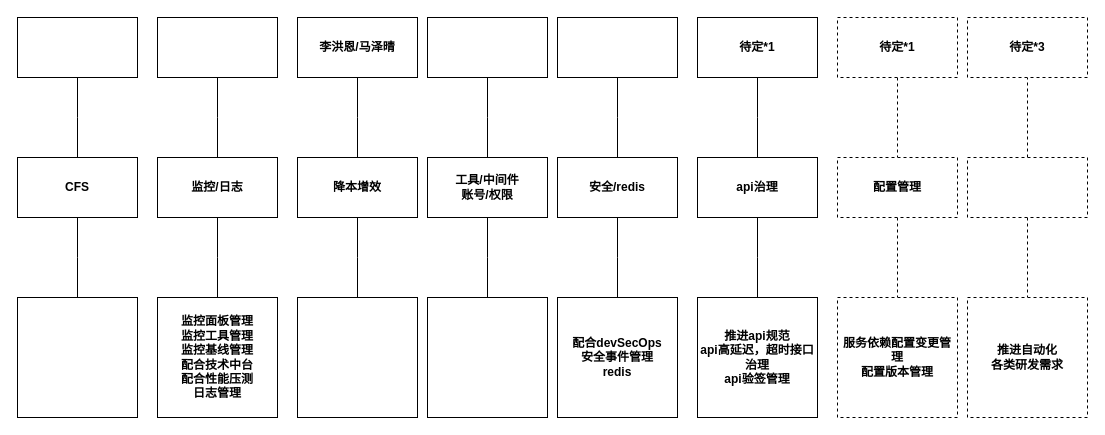
The diagram is 1105 pixels wide and 435 high, and some of its shapes have lost their labels. The centre of each missing label's shape, as x and y in pixels:
"前期王秋雨，逐步交接给彭玉琰" belongs at point 77,47.
"各类云资源降配 推进serverless 配合现代化落地 费用统计" belongs at point 357,357.
"工具管理 各类中间件 账号申请 系统集成账号管理 权限管理" belongs at point 487,357.
"流程、制度、规范、标准的 设计、宣贯、检验、优化 各类工单管理 计划排期管理 风险管理 质量管理" belongs at point 77,357.
"王成" belongs at point 487,47.
"王秋雨/牛磊" belongs at point 217,47.
"研发" belongs at point 1027,187.
"郭文轩" belongs at point 617,47.
